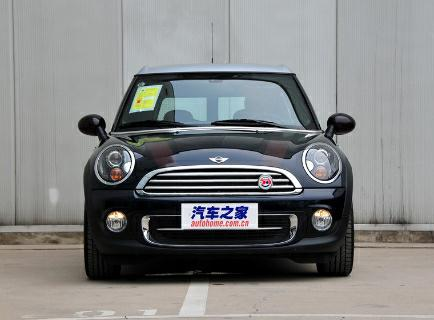MINI CLUBMAN: (75, 69, 357, 276)
